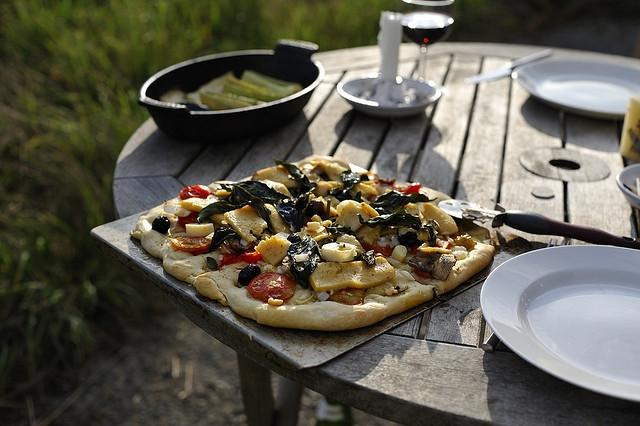tomato: (248, 272, 296, 302), (219, 250, 261, 269), (329, 286, 365, 306), (170, 235, 211, 252), (360, 242, 396, 257), (180, 184, 213, 200), (393, 182, 422, 194), (414, 268, 434, 279), (436, 240, 450, 249)
